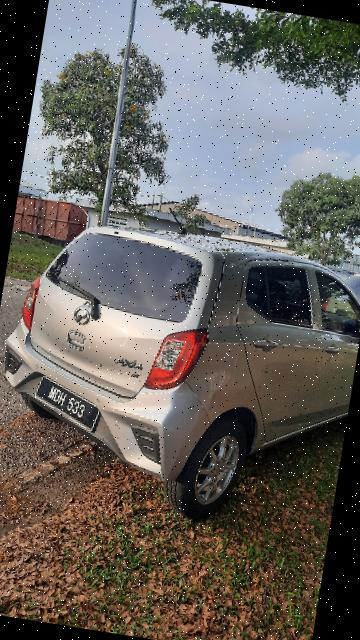License_Plate: (30, 376, 108, 436)
car: (1, 201, 360, 540)
